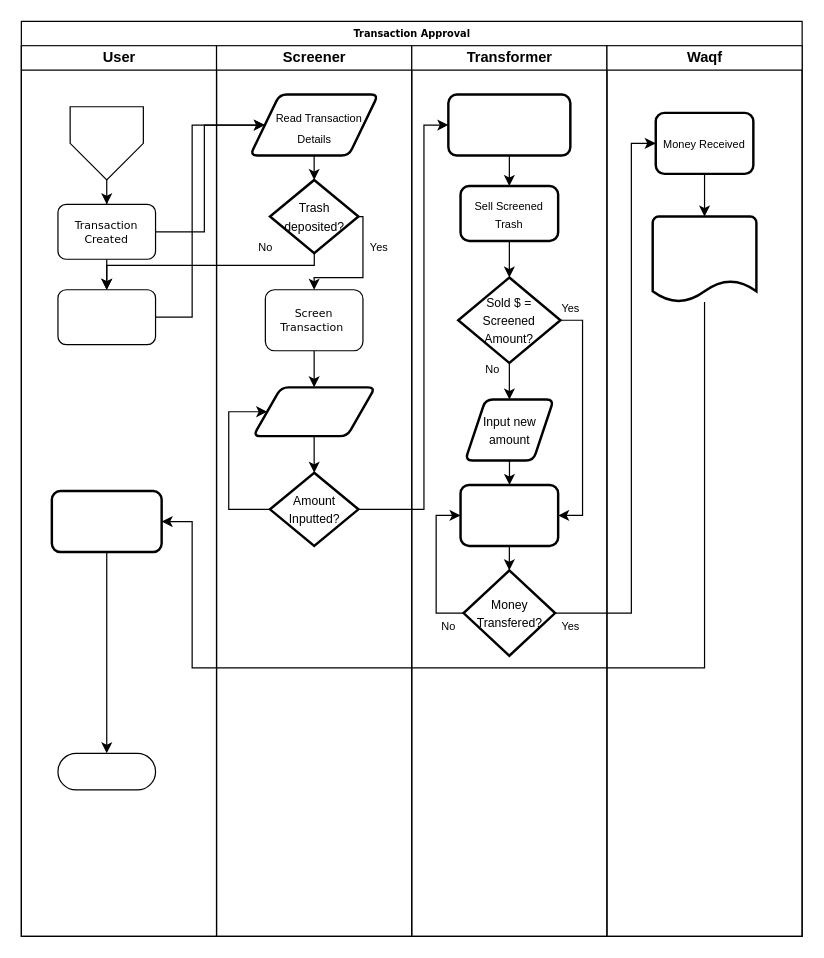
Image size: 824x958. Some labels were removed from this diagram. Here are the shapes that lost their labels. From the top down, the box of each, then its label:
(69, 106, 143, 180): Create Transaction
(447, 93, 571, 156): Delete data on screener, show on transformer
(651, 215, 757, 303): Generate Donation Receipt
(57, 289, 156, 345): Deposit Trash
(251, 386, 376, 437): Input Amount Screened
(50, 489, 162, 553): Move Transaction Details to History
(459, 483, 559, 547): Transfer Money to Waqf
(57, 752, 156, 790): End
